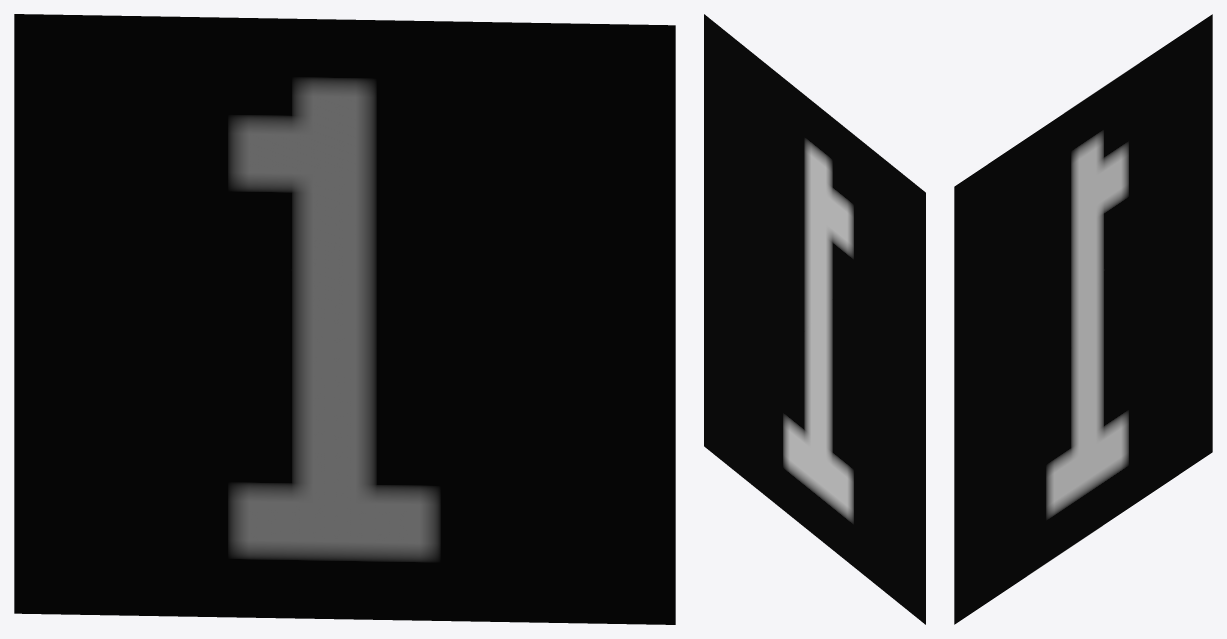
3 renders of one model, left to right at view 1: azimuth 30°, elevation 25°; view 2: azimuth 150°, elevation 25°; view 3: azimuth 270°, elevation 25°, orthographic. The views are drawn at different scales.
Parts seen in each view (by area): view 1: Joint_0_Object_0; view 2: Joint_0_Object_0; view 3: Joint_0_Object_0.
Part boxes in pixels (left/top/right/bottom): Joint_0_Object_0: left=14, top=14, right=675, bottom=624; Joint_0_Object_0: left=704, top=14, right=925, bottom=624; Joint_0_Object_0: left=954, top=14, right=1212, bottom=624.
Bounding box in the file's own units: 26.2 × 31 × 16.57.
1 material, 1 textured.
